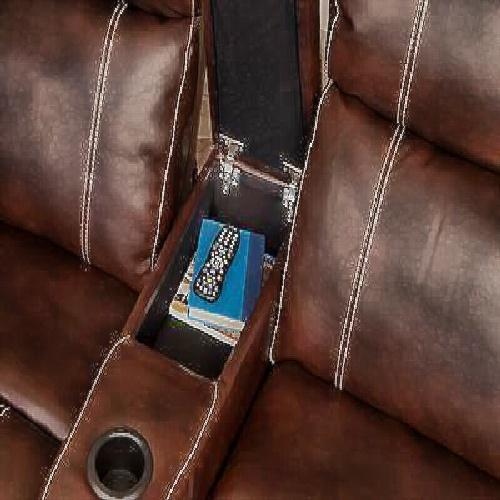chair: (38, 18, 451, 474)
